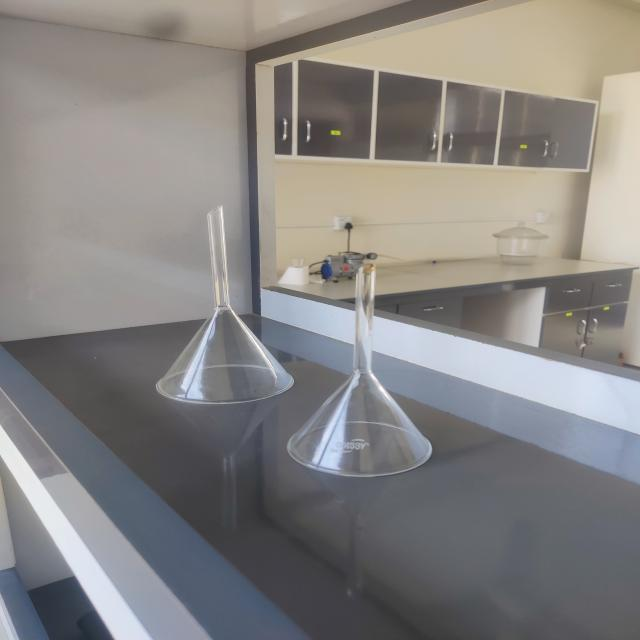Funnel: (274, 238, 462, 498), (135, 178, 309, 416)
